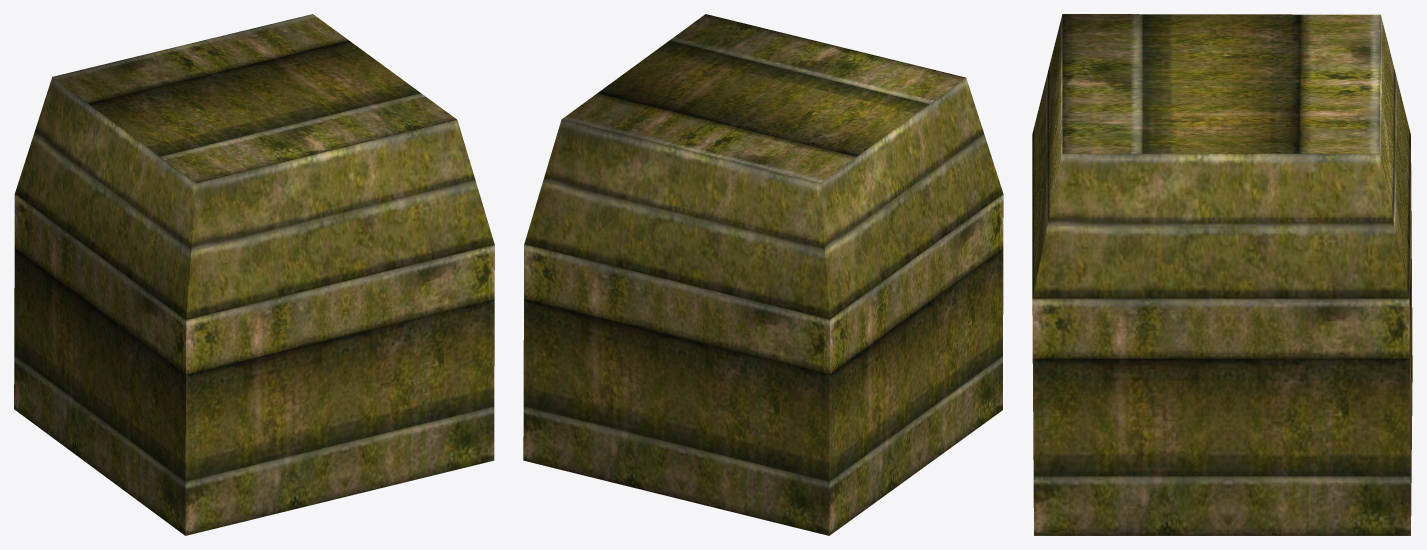
The model's file is OVERHILL_A_01_OBJECT329.fbx.
The picture shows the model from 3 angles, left to right: view 1: azimuth 30°, elevation 25°; view 2: azimuth 150°, elevation 25°; view 3: azimuth 270°, elevation 25°; orthographic projection. The views are drawn at different scales.
Visible parts, largest first — view 1: OVERHILL_A_01_OBJECT329; view 2: OVERHILL_A_01_OBJECT329; view 3: OVERHILL_A_01_OBJECT329.
Part boxes in pixels (x1=…): OVERHILL_A_01_OBJECT329: x1=14, y1=14, x2=494, y2=535; OVERHILL_A_01_OBJECT329: x1=523, y1=14, x2=1003, y2=535; OVERHILL_A_01_OBJECT329: x1=1032, y1=14, x2=1412, y2=535.
Size of the model in its own units: 11843 by 12361 by 11525.
Materials: 2 (2 with a texture image).
